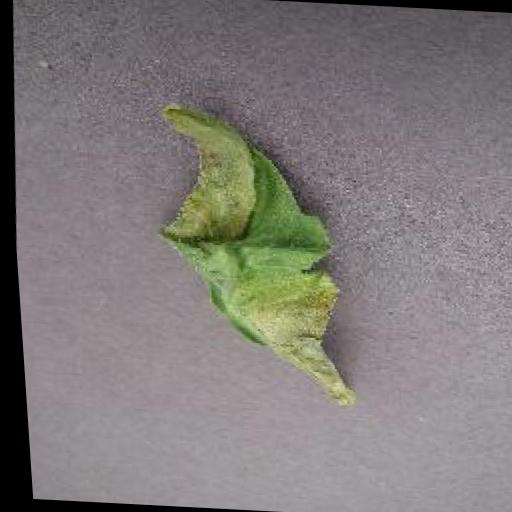Late Blight: (143, 104, 364, 402)
